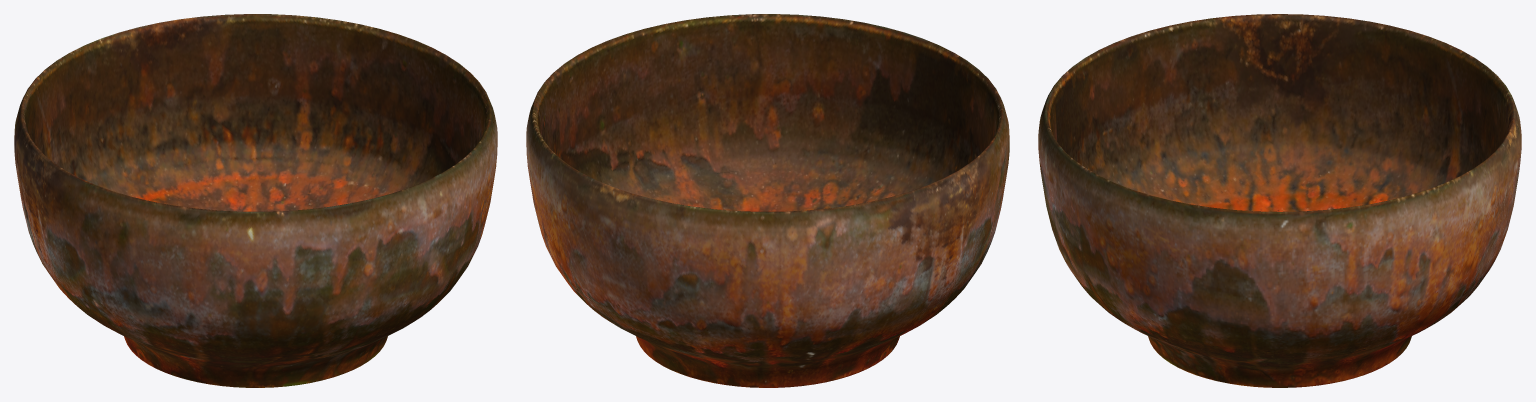
File: bowl_3.glb
The picture shows the model from 3 angles, left to right: view 1: azimuth 30°, elevation 25°; view 2: azimuth 150°, elevation 25°; view 3: azimuth 270°, elevation 25°; orthographic projection.
Parts seen in each view (by area): view 1: Copper Bowl.001; view 2: Copper Bowl.001; view 3: Copper Bowl.001.
Boxes of the visible parts, box(x1,y1,x2,y2) form: Copper Bowl.001: box(14, 14, 497, 387); Copper Bowl.001: box(526, 14, 1009, 387); Copper Bowl.001: box(1038, 14, 1521, 387).
Size of the model in its own units: 0.1303 by 0.0653 by 0.1303.
Materials: 1 (1 with a texture image).
